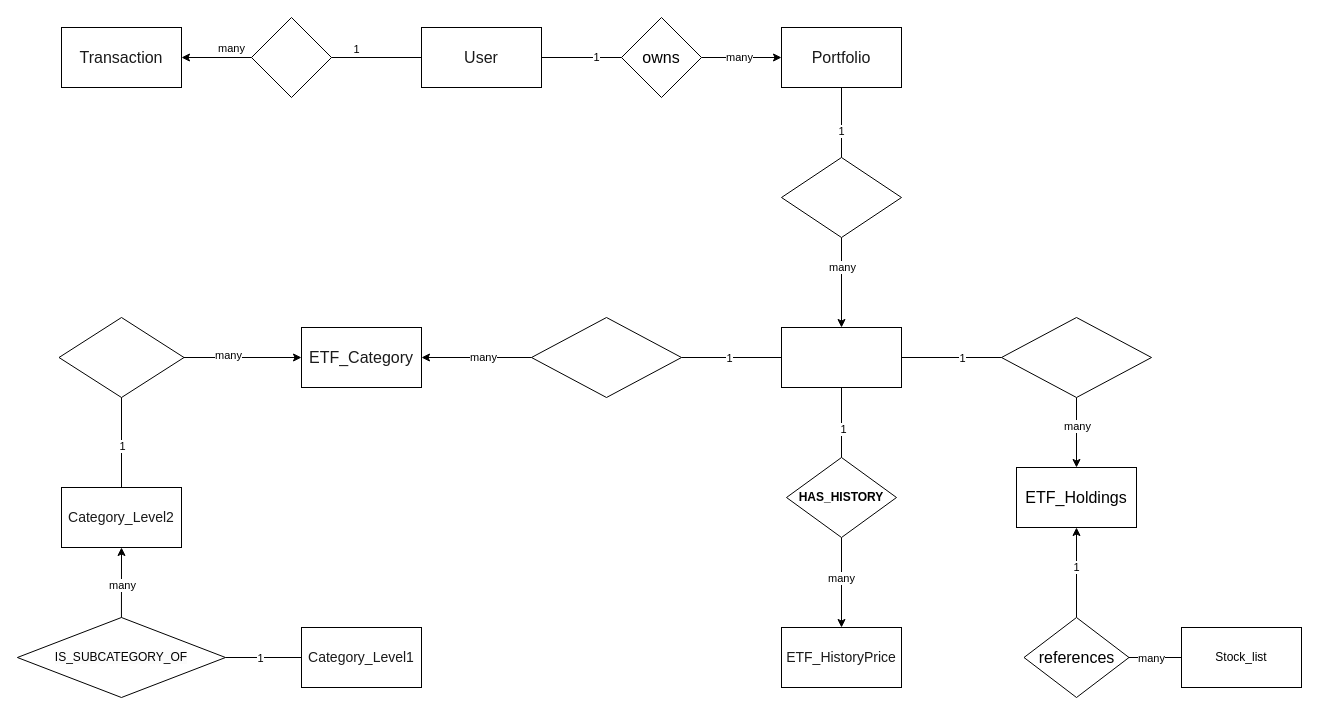
Some shapes in this 1320 by 715 pixel diagram are drawn without their labels. The centre of each missing label's shape, as x and y in pixels:
"belongs to" belongs at (x=121, y=357).
"composed_of" belongs at (x=1076, y=357).
"ETF" belongs at (x=841, y=357).
"in_category_of" belongs at (x=606, y=357).
"include" belongs at (x=841, y=197).
"initiates" belongs at (x=291, y=57).
